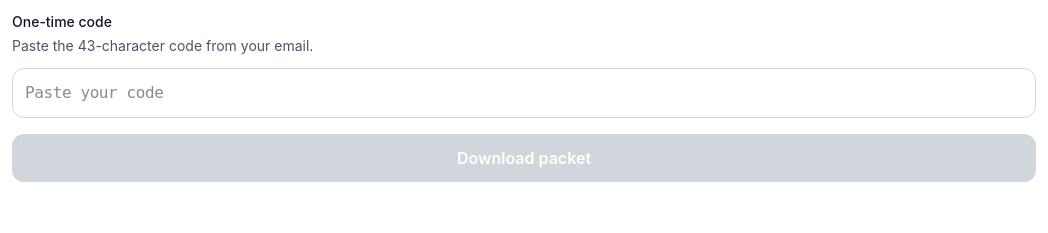
Scenario: refusals are coarse and the input is still cleared › shows a message for REVOKED
Type "Zm9vYmFyYmF6cXV1eGNvcmdlZ3JhdWx0Z2FycGx5Z2g" into the field labelled "One-time code" at (524, 93), box top-left (12, 68), bottom-right (1036, 118)
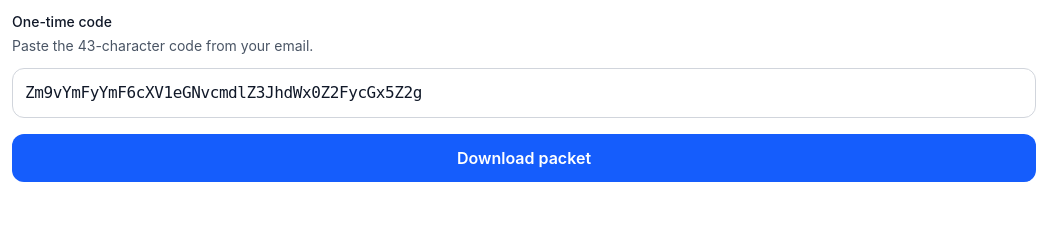
Click the button "Download packet" at (524, 158), box top-left (12, 134), bottom-right (1036, 182)
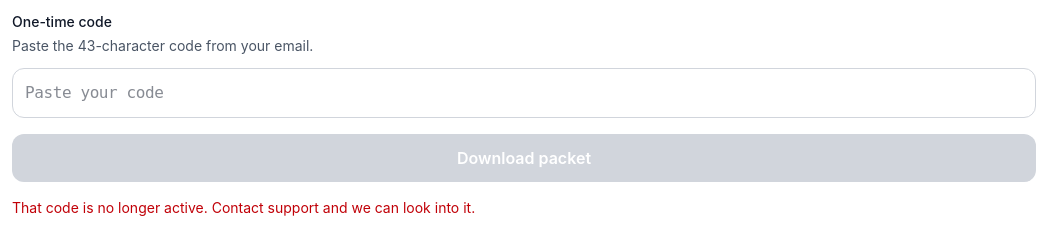
Result: the text "no longer active" is shown at top-left (12, 199), bottom-right (475, 216)
Result: the field labelled "One-time code" is empty at top-left (12, 68), bottom-right (1036, 118)
